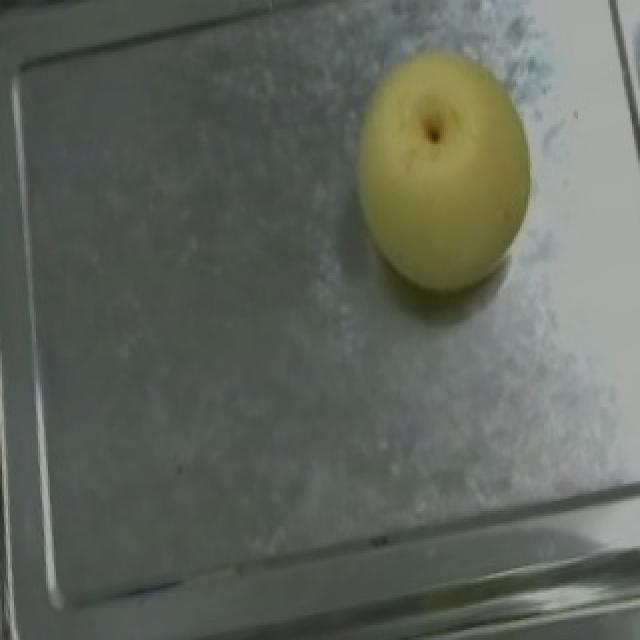Fruit: (316, 20, 556, 317)
